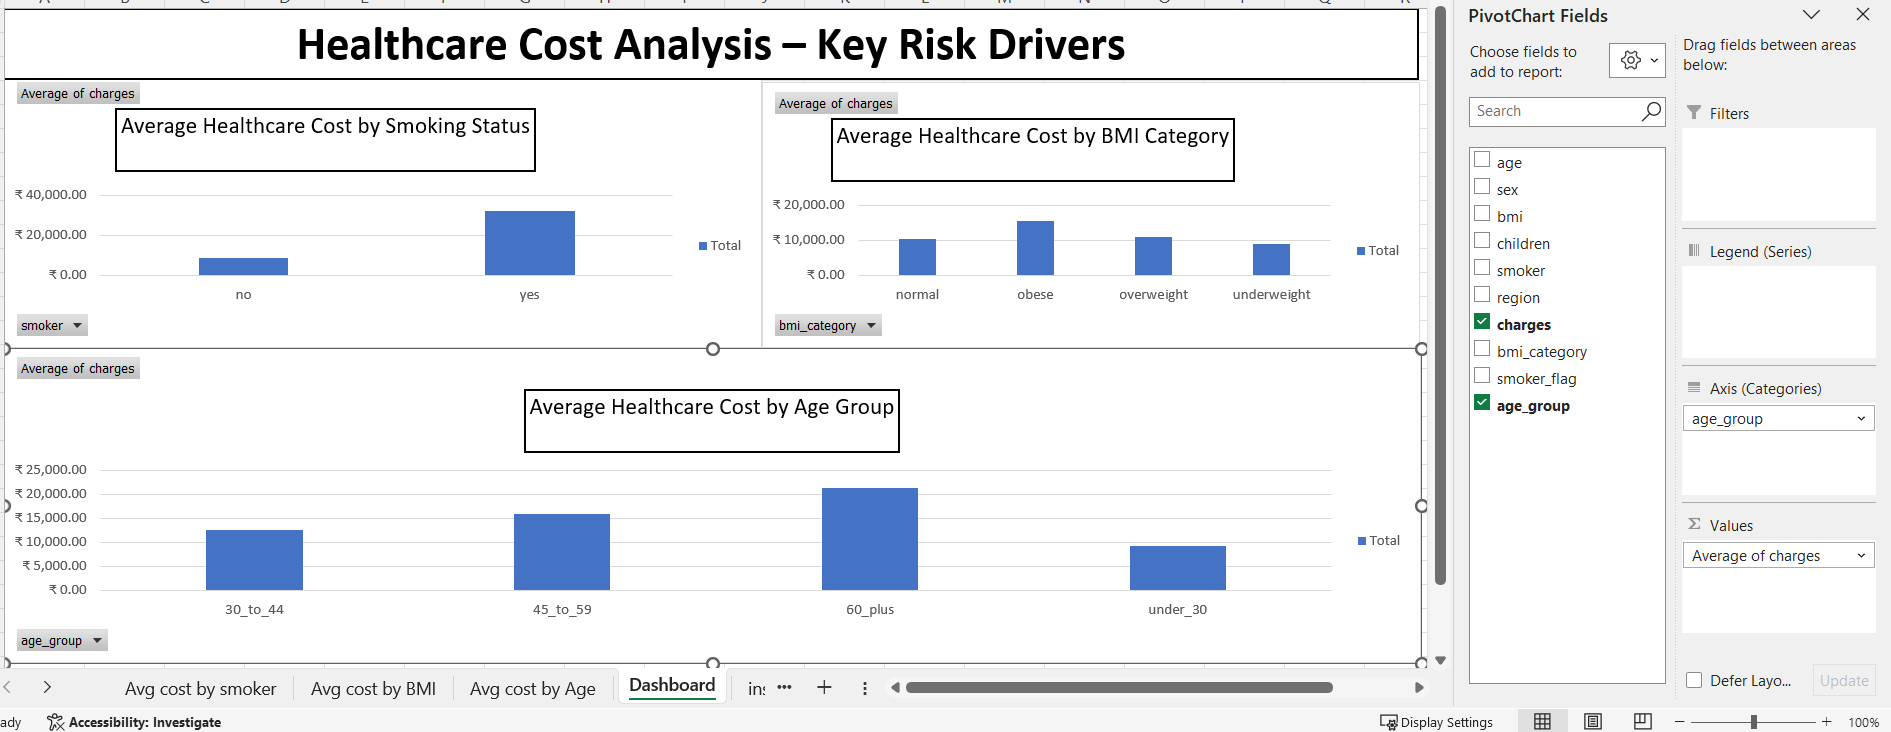

The page's visual inventory and layout, read from the dashboard file:
{"tool":"tableau","page":{"name":"Dashboard 1","canvas":[1000,1000],"units":"permille","ordinal":0},"visuals":[{"type":"text","box":[4.8,10,990.3,82.4]},{"type":"worksheet","title":"Average Healthcare Cost ($) by Smoker","mark":"Bar","rows":["charges"],"cols":["smoker"],"box":[4.8,92.4,220.9,897.6]},{"type":"worksheet","title":"Average Healthcare Cost ($) by BMI","mark":"Bar","rows":["charges"],"cols":["bmi_category"],"box":[225.7,92.4,384.7,897.6]},{"type":"worksheet","title":"Average Healthcare Cost ($) by Age","mark":"Bar","rows":["charges"],"cols":["age_group"],"box":[610.4,92.4,384.7,897.6]}]}

Visuals, with their boxes on the dashboard's canvas, which has no fixed pixel size, in thousandths of its width and height (x1, y1, x2, y2). These are canvas units, not pixel positions in the 1891x732 screenshot, which may show the page scaled, cropped or inside an application window:
text: 5/10/995/92
"Average Healthcare Cost ($) by Smoker" worksheet (Bar marks): 5/92/226/990
"Average Healthcare Cost ($) by BMI" worksheet (Bar marks): 226/92/610/990
"Average Healthcare Cost ($) by Age" worksheet (Bar marks): 610/92/995/990
